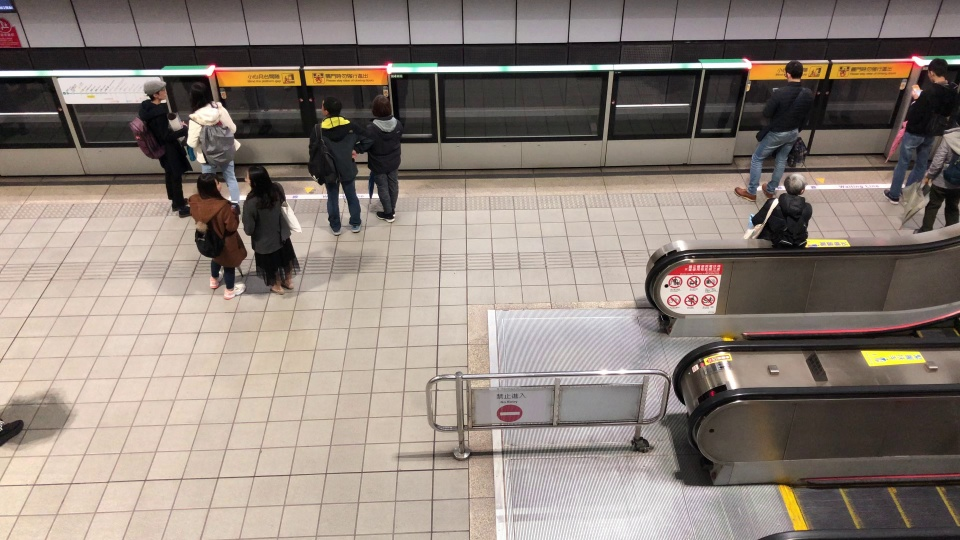person_head: (194, 173, 223, 202), (248, 165, 273, 192), (140, 79, 168, 103), (369, 95, 394, 121), (189, 82, 212, 110), (319, 95, 345, 118), (926, 58, 949, 84), (783, 173, 808, 196), (783, 59, 804, 83), (945, 106, 960, 129)
person_vbox: (731, 58, 816, 201), (881, 57, 959, 204), (127, 79, 197, 218), (179, 172, 249, 300), (240, 164, 306, 299), (306, 94, 366, 236), (184, 81, 244, 204), (909, 106, 960, 239), (359, 95, 404, 226), (747, 172, 814, 251)
